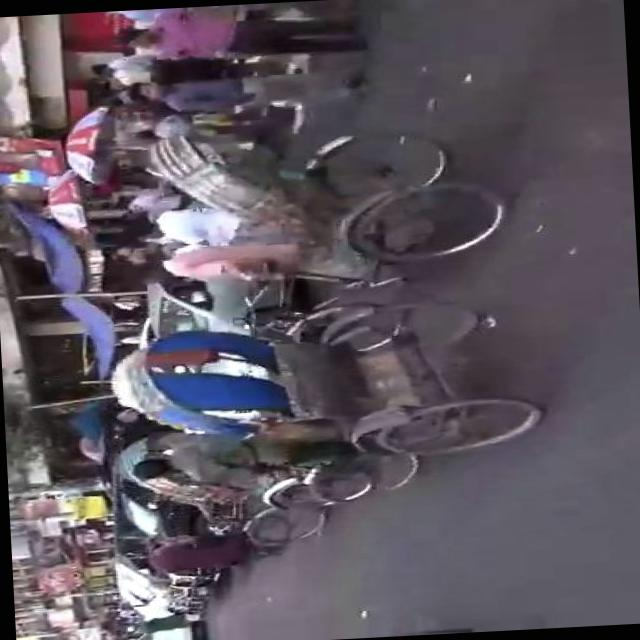car: (140, 270, 290, 340)
motorcycle: (106, 288, 558, 513), (142, 110, 512, 360), (110, 421, 330, 554)
truck: (113, 480, 234, 591), (107, 522, 207, 614)
